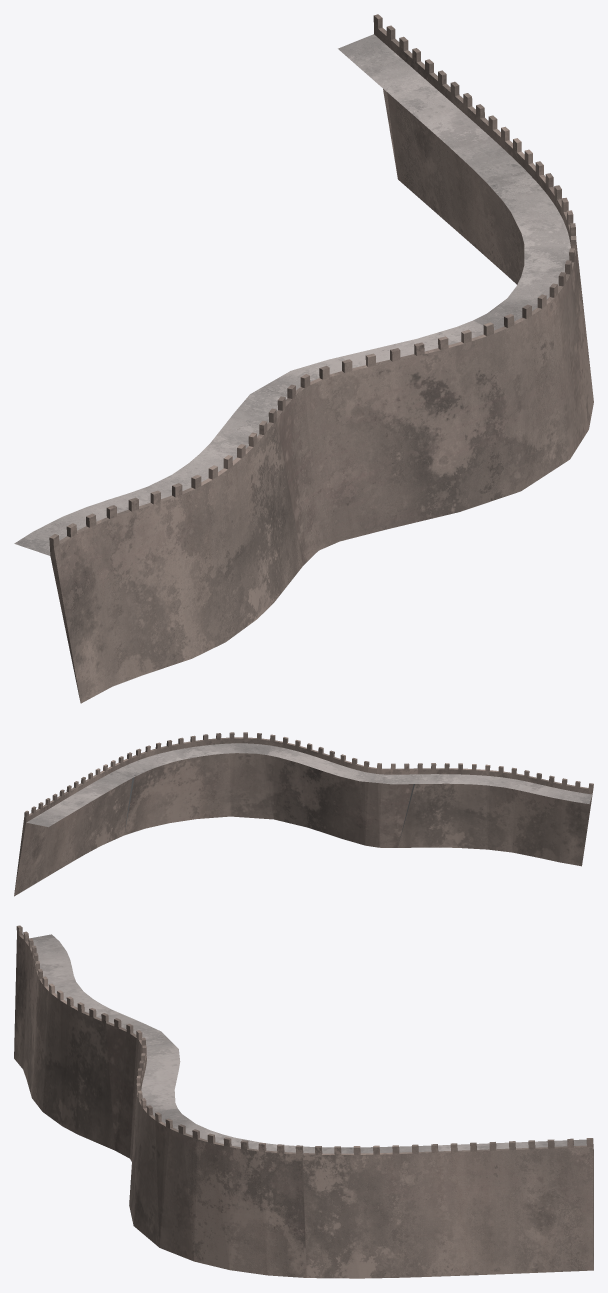
The model's file is Wall.fbx.
The picture shows the model from 3 angles, top to bottom: view 1: azimuth 30°, elevation 25°; view 2: azimuth 150°, elevation 25°; view 3: azimuth 270°, elevation 25°; orthographic projection. The views are drawn at different scales.
Parts seen in each view (by area): view 1: Walls; view 2: Walls; view 3: Walls.
Boxes of the visible parts, box(x1,y1,x2,y2) form: Walls: box(14, 14, 593, 703); Walls: box(14, 732, 593, 896); Walls: box(14, 925, 593, 1278).
Bounding box in the file's own units: 5932 × 1711 × 5416.
